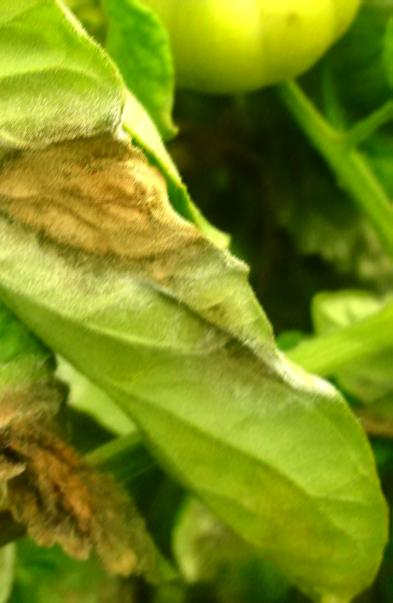Tomato leaf late blight: (0, 0, 393, 603), (0, 287, 184, 588)
